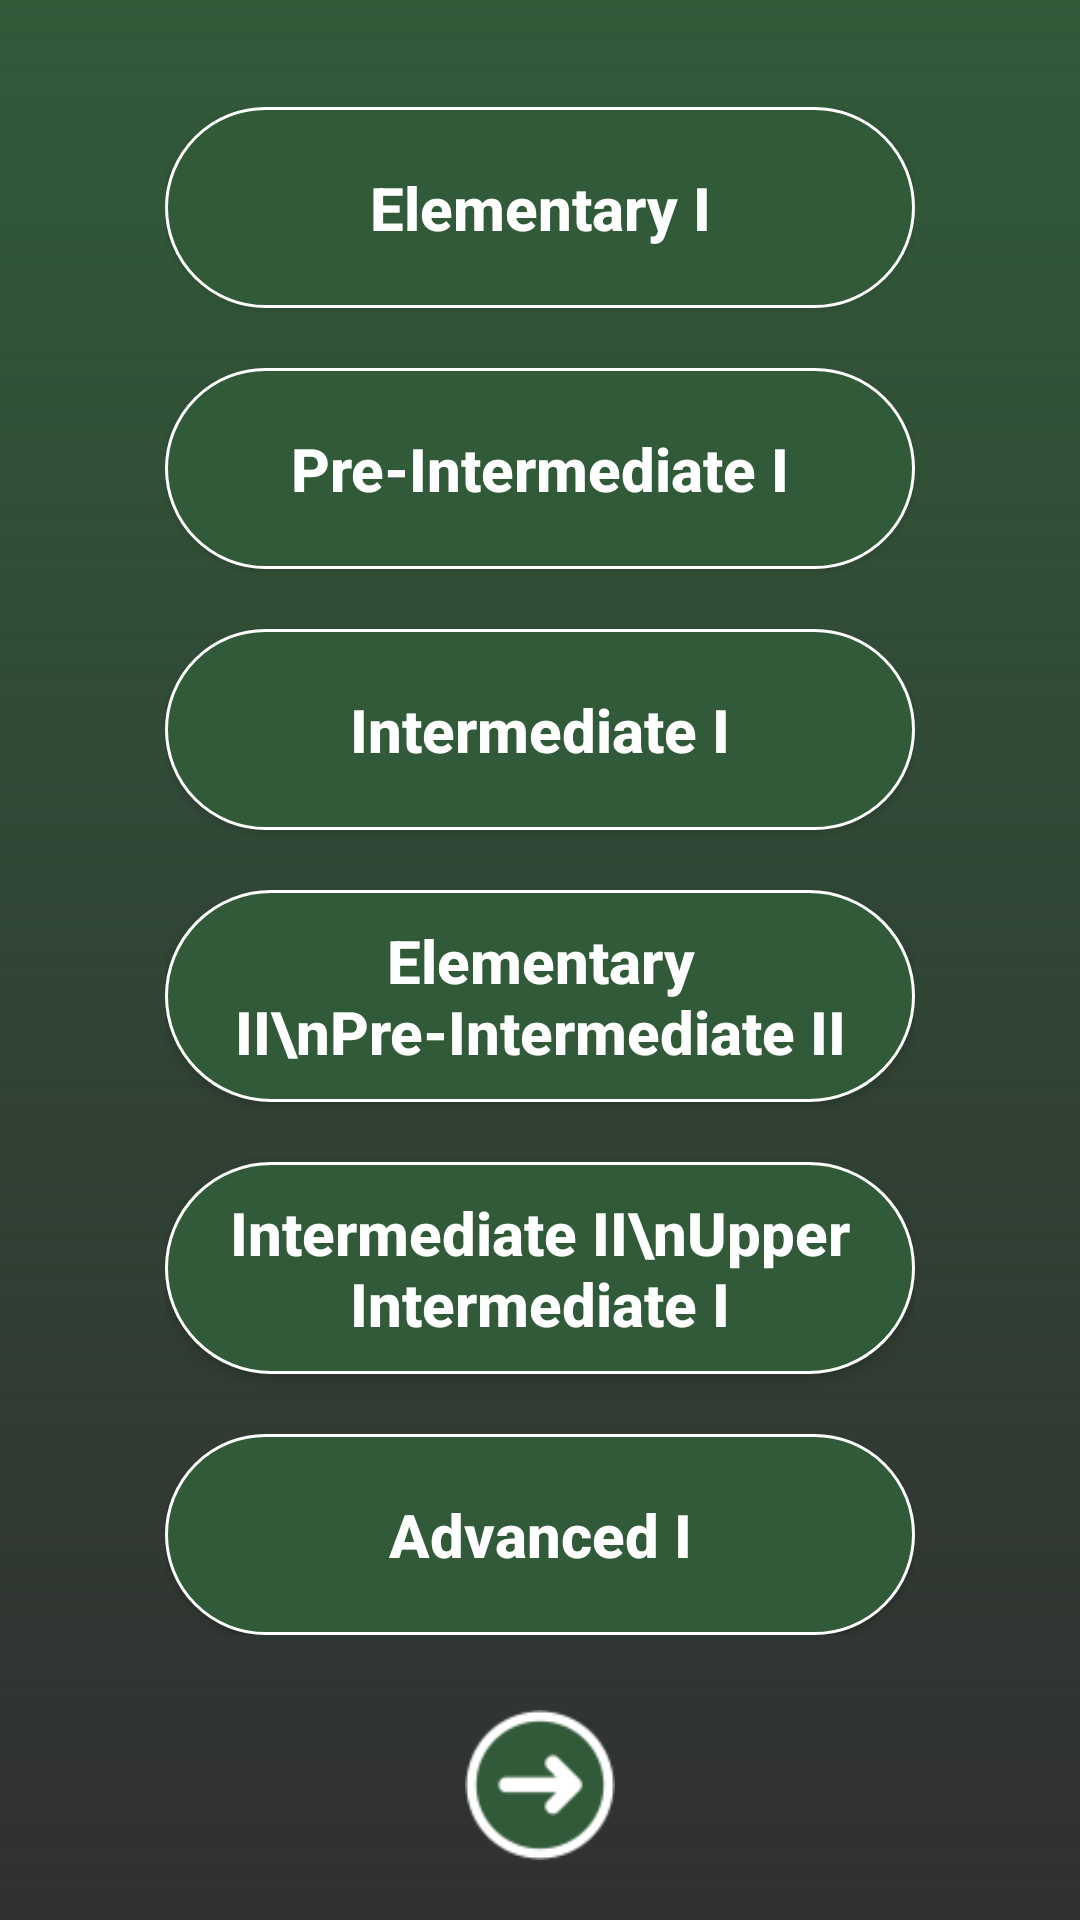

Point at icon controls on the screen. Image size 1080×1920, points as [x,y].
next: [540,1785]
